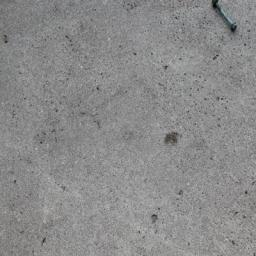FOD: (208, 1, 243, 34)
